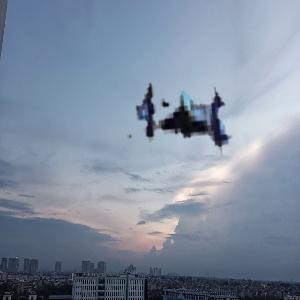drone: (101, 57, 278, 234)
